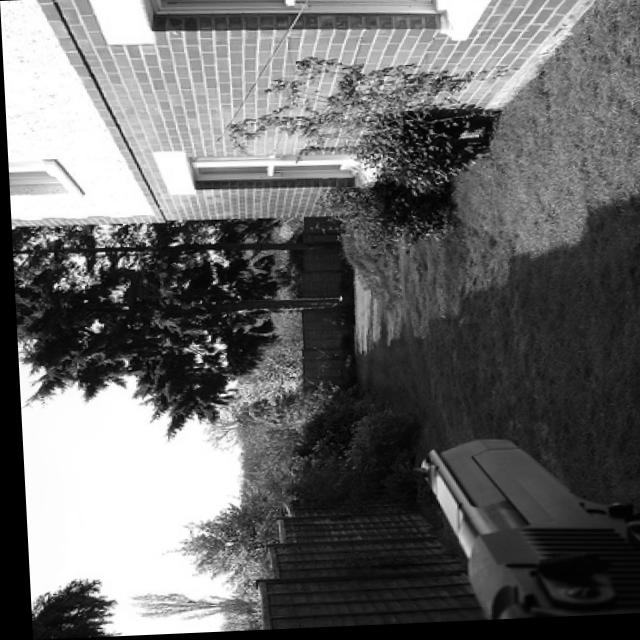handgun: (401, 432, 640, 623)
